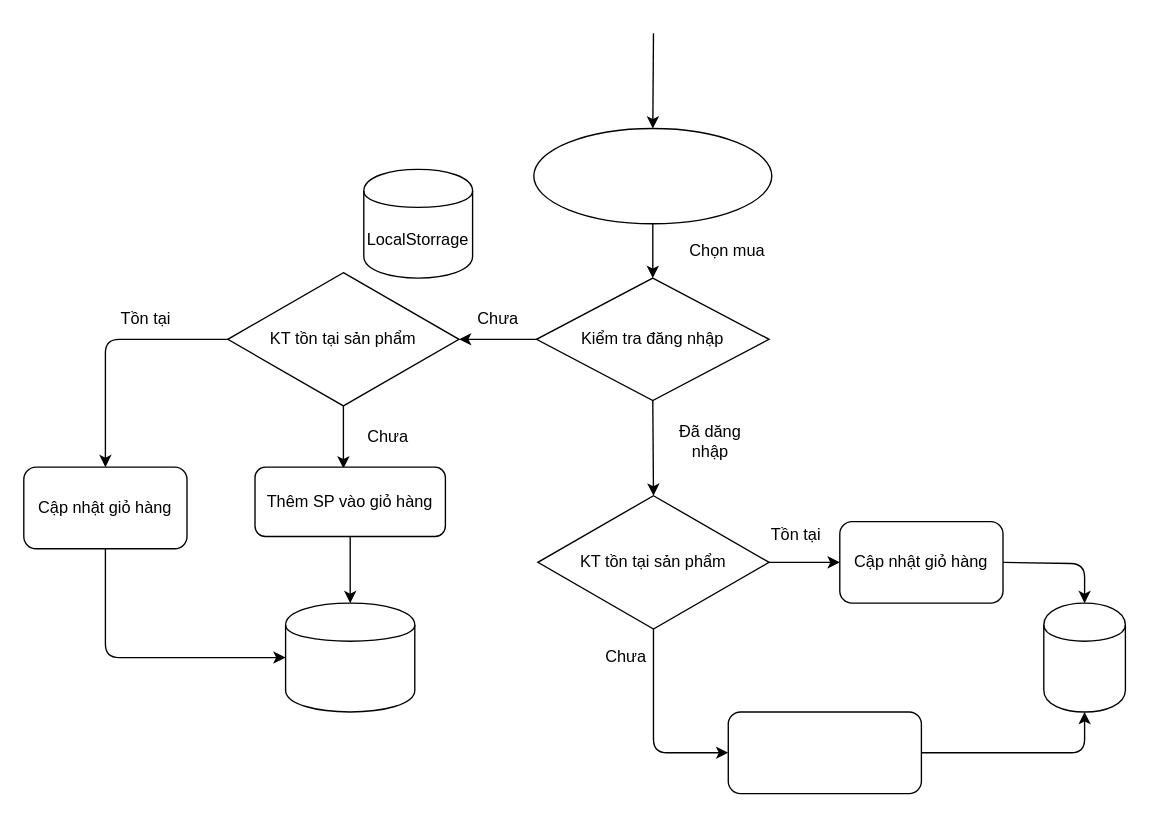
The diagram is 1149 pixels wide and 817 high, and some of its shapes have lost their labels. Each missing label, with the centre of its shape:
LocalStorage: the point at 349,657
Lập chi tiết đơn hàng, thêm mơi SP: the point at 824,752
Thông tin sản phẩm: the point at 652,175
Đơn hàng: the point at 1083,657
